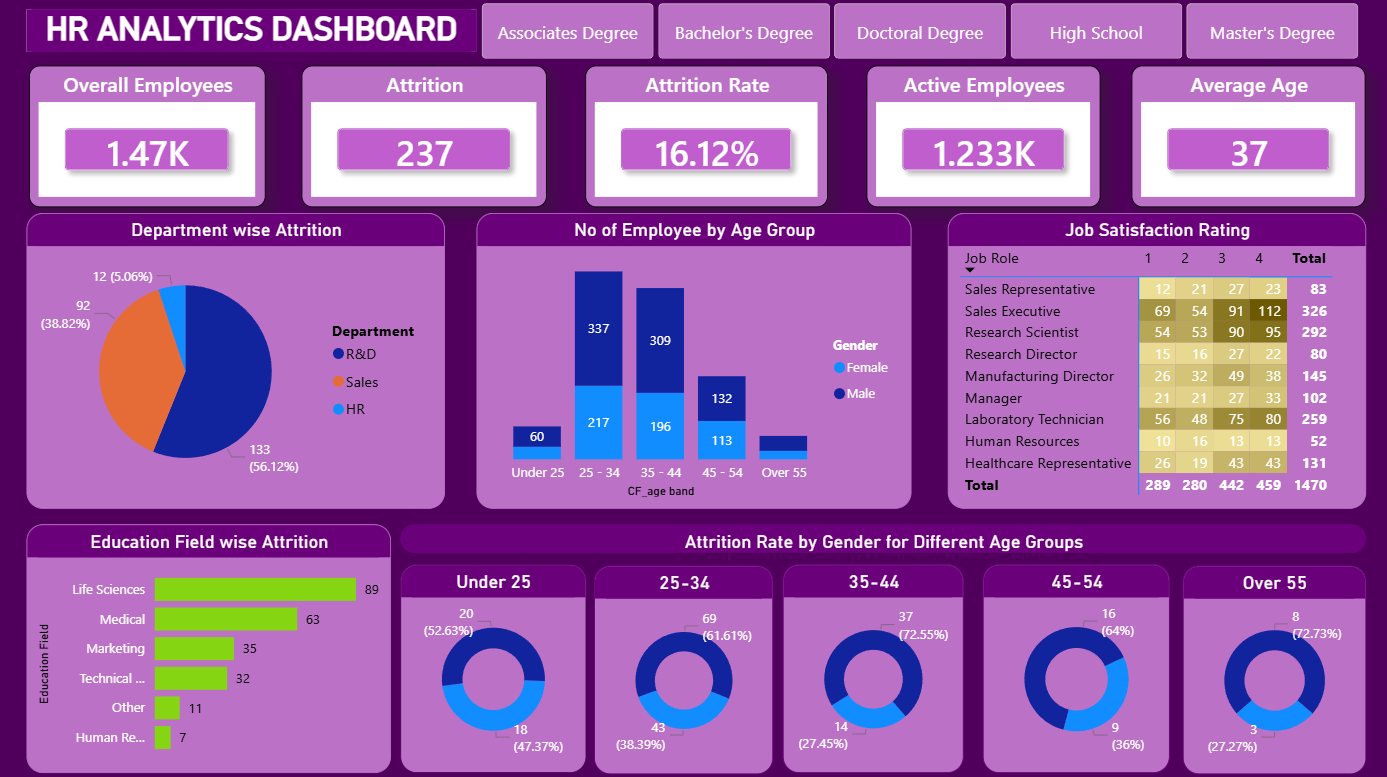

Layout of this report page (visuals, bound fields, positions):
{"tool":"powerbi","page":{"name":"Page 1","canvas":[1280,720],"ordinal":0},"visuals":[{"type":"cardVisual","title":"Overall Employees","fields":{"Data":["Sum(HR data.Employee Count)"]},"box":[27.9,61.6,217.4,130.2],"z":0},{"type":"cardVisual","title":"Attrition","fields":{"Data":["Sum(HR data.Attrition Count)"]},"box":[277.9,61.6,225.6,130.2],"z":1000},{"type":"cardVisual","title":"Attrition Rate","fields":{"Data":["HR data.Attrition Rate"]},"box":[539.5,61.6,223.3,130.2],"z":2000},{"type":"cardVisual","title":"Active Employees","fields":{"Data":["HR data.Active Employees"]},"box":[797.7,61.6,215.1,130.2],"z":3000},{"type":"cardVisual","title":"Average Age","fields":{"Data":["Avg(HR data.Age)"]},"box":[1041.9,61.6,215.1,130.2],"z":4000},{"type":"pieChart","title":"Department wise Attrition","fields":{"Category":["HR data.Department"],"Y":["Sum(HR data.Attrition Count)"]},"box":[25.6,197.7,384.9,272.1],"z":5000},{"type":"columnChart","title":"No of Employee by Age Group","fields":{"Category":["HR data.CF_age band"],"Y":["Sum(HR data.Employee Count)"],"Series":["HR data.Gender"]},"box":[439.5,197.7,400,272.1],"z":6000},{"type":"pivotTable","title":"Job Satisfaction Rating","fields":{"Rows":["HR data.Job Role"],"Columns":["HR data.Job Satisfaction"],"Values":["Sum(HR data.Employee Count)"]},"box":[872.1,197.7,384.9,272.1],"z":7000},{"type":"barChart","title":"Education Field wise Attrition","fields":{"Category":["HR data.Education Field"],"Y":["Sum(HR data.Attrition Count)"]},"box":[25.6,483.7,334.9,229.1],"z":8000},{"type":"donutChart","title":"Under 25","fields":{"Category":["HR data.Gender"],"Y":["Sum(HR data.Attrition Count)"],"Series":["HR data.CF_age band"]},"box":[368.6,520.9,170.9,191.9],"z":9000},{"type":"donutChart","title":"25-34","fields":{"Category":["HR data.Gender"],"Y":["Sum(HR data.Attrition Count)"],"Series":["HR data.CF_age band"]},"box":[547.7,522.1,165.1,191.9],"z":10000},{"type":"donutChart","title":"35-44","fields":{"Category":["HR data.Gender"],"Y":["Sum(HR data.Attrition Count)"],"Series":["HR data.CF_age band"]},"box":[720.9,520.9,166.3,191.9],"z":11000},{"type":"donutChart","title":"45-54","fields":{"Category":["HR data.Gender"],"Y":["Sum(HR data.Attrition Count)"],"Series":["HR data.CF_age band"]},"box":[904.7,520.9,172.1,191.9],"z":12000},{"type":"donutChart","title":"Over 55","fields":{"Category":["HR data.Gender"],"Y":["Sum(HR data.Attrition Count)"],"Series":["HR data.CF_age band"]},"box":[1088.4,522.1,168.6,191.9],"z":13000},{"type":"textbox","title":"Attrition Rate by Gender for Different Age Groups","box":[368.6,483.7,888.4,26.7],"z":14000},{"type":"textbox","title":"HR ANALYTICS DASHBOARD","box":[25.6,10.5,414,39.5],"z":14001},{"type":"advancedSlicerVisual","fields":{"Values":["HR data.Education"]},"box":[439.5,0,817.4,61.6],"z":14002}]}

Visuals, with their boxes in screenshot pixels (x1, y1, x2, y2), scaled from the page's 1280x720 canvas onto the 1387x777 screenshot:
"Overall Employees" cardVisual: locate(30, 66, 266, 207)
"Attrition" cardVisual: locate(301, 66, 546, 207)
"Attrition Rate" cardVisual: locate(585, 66, 827, 207)
"Active Employees" cardVisual: locate(864, 66, 1097, 207)
"Average Age" cardVisual: locate(1129, 66, 1362, 207)
"Department wise Attrition" pieChart: locate(28, 213, 445, 507)
"No of Employee by Age Group" columnChart: locate(476, 213, 910, 507)
"Job Satisfaction Rating" pivotTable: locate(945, 213, 1362, 507)
"Education Field wise Attrition" barChart: locate(28, 522, 391, 769)
"Under 25" donutChart: locate(399, 562, 585, 769)
"25-34" donutChart: locate(593, 563, 772, 771)
"35-44" donutChart: locate(781, 562, 961, 769)
"45-54" donutChart: locate(980, 562, 1167, 769)
"Over 55" donutChart: locate(1179, 563, 1362, 771)
"Attrition Rate by Gender for Different Age Groups" textbox: locate(399, 522, 1362, 551)
"HR ANALYTICS DASHBOARD" textbox: locate(28, 11, 476, 54)
advancedSlicerVisual - HR data.Education: locate(476, 0, 1362, 66)
